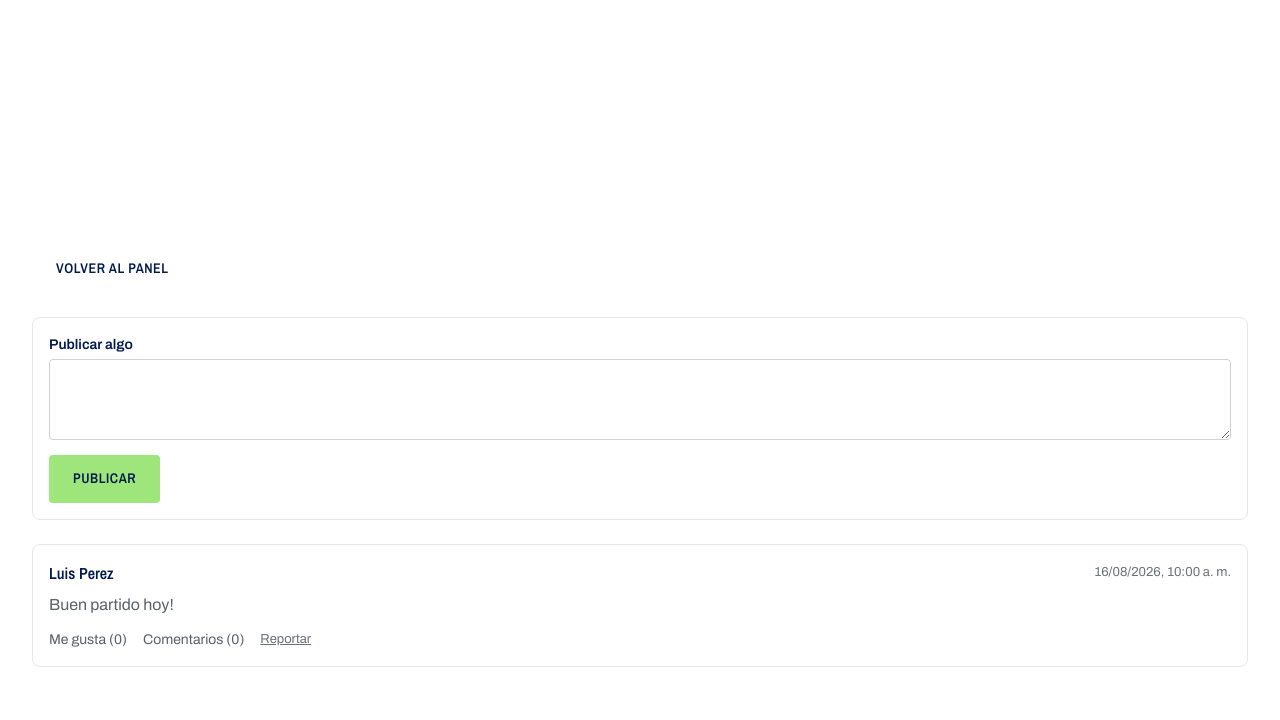
it: CommunityPage › expands comments and posts a new one
Click the button "Comentarios (0)" at (194, 639), box x1=143 y1=629 x2=244 y2=650
(page scrolled)
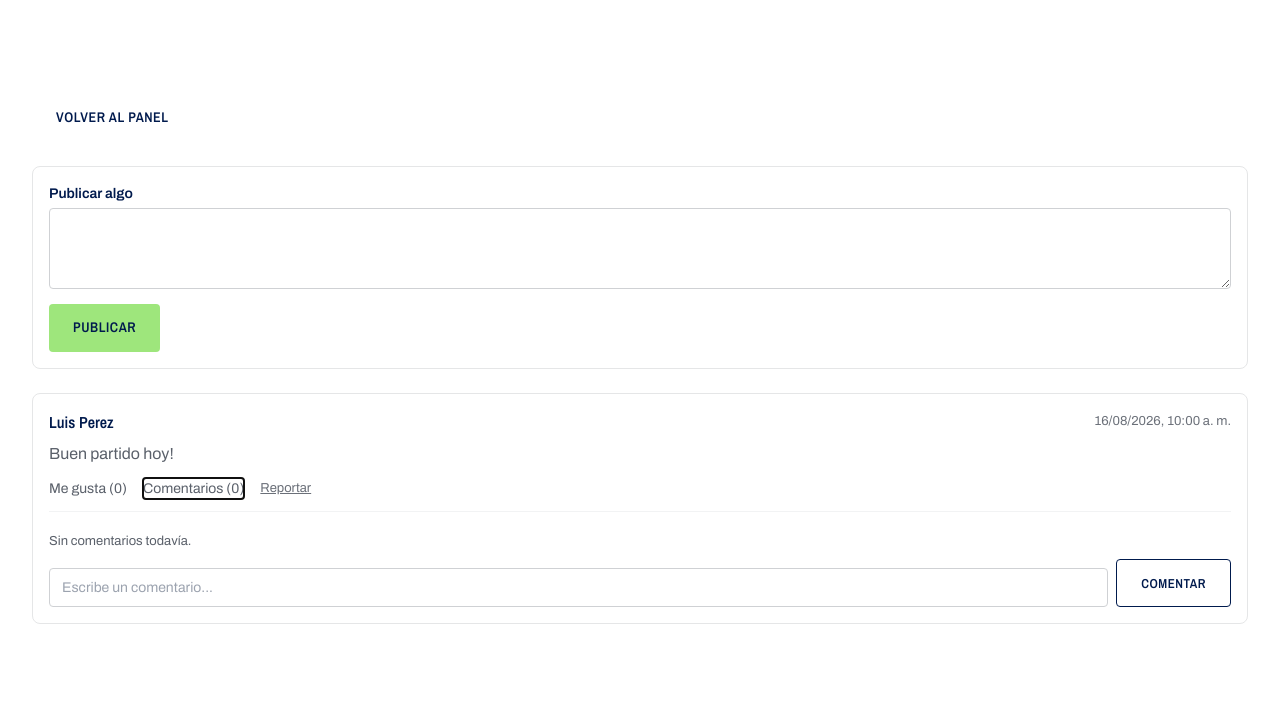
Check: the text "Sin comentarios todavía." is shown, box x1=49 y1=534 x2=191 y2=548
Type "Felicidades!" into the field with placeholder "Escribe un comentario..." at (579, 588), box x1=49 y1=568 x2=1108 y2=607
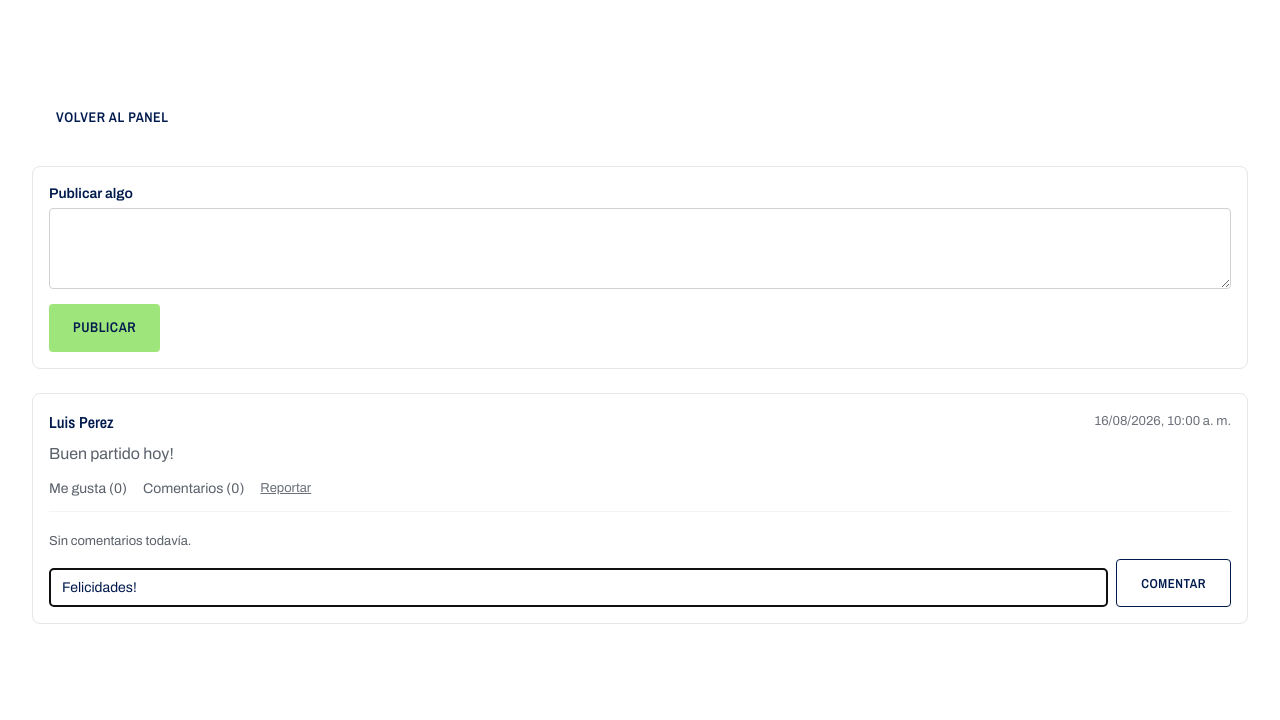
Click the button "Comentar" at (1174, 583), box x1=1116 y1=559 x2=1231 y2=607
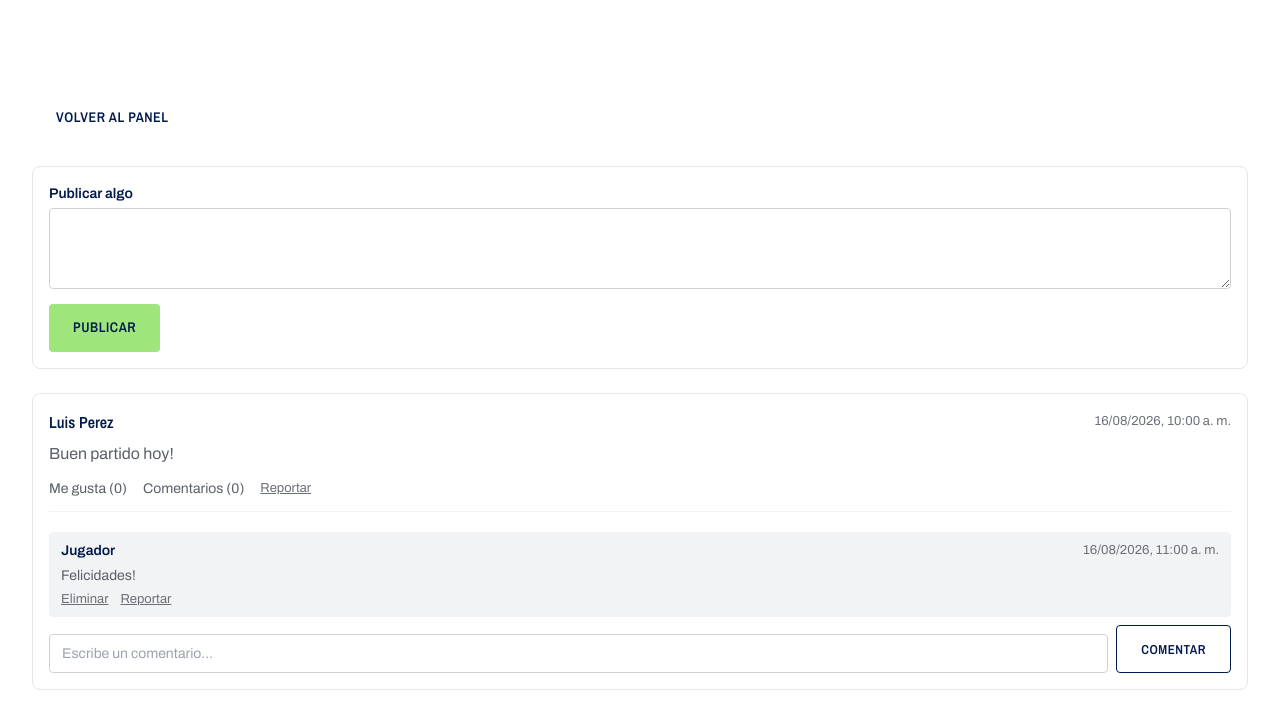
Check: the text "Felicidades!" is shown, box x1=61 y1=568 x2=136 y2=583
